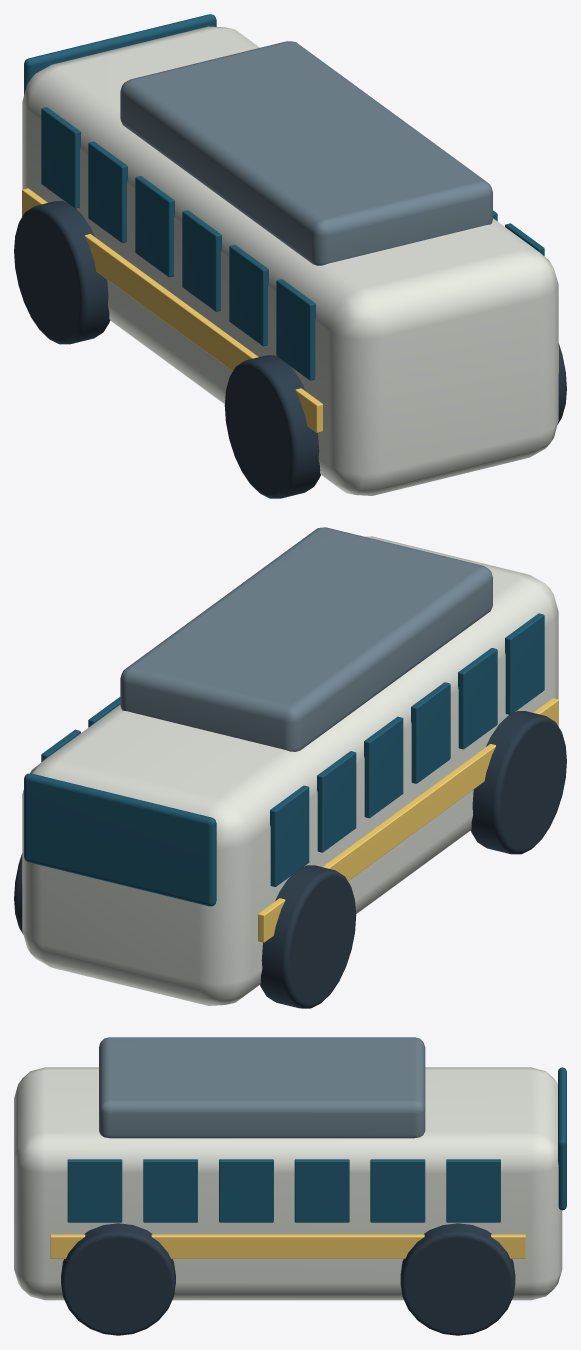
File: EvacBus.fbx
3 renders of one model, top to bottom at view 1: azimuth 30°, elevation 25°; view 2: azimuth 150°, elevation 25°; view 3: azimuth 270°, elevation 25°, orthographic. The views are drawn at different scales.
Parts seen in each view (by area): view 1: Electric evacuation bus, Roof battery, Bus wheel.001, Bus wheel, Rescue lane stripe, Passenger glazing, Passenger glazing.001, Passenger glazing.003, Passenger glazing.005, Passenger glazing.002, Passenger glazing.004, Front glass; view 2: Electric evacuation bus, Roof battery, Front glass, Bus wheel, Bus wheel.001, Rescue lane stripe, Passenger glazing.002, Passenger glazing.003, Passenger glazing.005, Passenger glazing, Passenger glazing.001, Passenger glazing.004; view 3: Electric evacuation bus, Roof battery, Bus wheel.003, Bus wheel.002, Rescue lane stripe.001, Passenger glazing.009, Passenger glazing.006, Passenger glazing.010, Passenger glazing.008, Passenger glazing.011, Passenger glazing.007, Front glass.
Boxes of the visible parts, box(x1,y1,x2,y2) form: Electric evacuation bus: box(22, 26, 558, 495); Roof battery: box(120, 41, 492, 265); Bus wheel.001: box(14, 201, 110, 344); Bus wheel: box(224, 355, 320, 498); Rescue lane stripe: box(22, 188, 322, 432); Passenger glazing: box(276, 279, 315, 380); Passenger glazing.001: box(229, 244, 268, 346); Passenger glazing.003: box(135, 176, 174, 277); Passenger glazing.005: box(41, 107, 80, 208); Passenger glazing.002: box(182, 210, 221, 311); Passenger glazing.004: box(88, 141, 127, 242); Front glass: box(24, 14, 216, 94); Electric evacuation bus: box(22, 536, 558, 1005); Roof battery: box(120, 527, 492, 751); Front glass: box(24, 773, 216, 906); Bus wheel: box(470, 711, 566, 854); Bus wheel.001: box(260, 865, 356, 1008); Rescue lane stripe: box(258, 698, 558, 942); Passenger glazing.002: box(411, 682, 450, 783); Passenger glazing.003: box(364, 716, 403, 818); Passenger glazing.005: box(270, 785, 309, 886); Passenger glazing: box(505, 613, 544, 714); Passenger glazing.001: box(458, 648, 497, 749); Passenger glazing.004: box(317, 751, 356, 852); Electric evacuation bus: box(14, 1067, 562, 1300); Roof battery: box(99, 1037, 425, 1138); Bus wheel.003: box(400, 1223, 515, 1335); Bus wheel.002: box(61, 1223, 175, 1335); Rescue lane stripe.001: box(50, 1234, 525, 1258); Passenger glazing.009: box(294, 1159, 349, 1222); Passenger glazing.006: box(67, 1159, 122, 1222); Passenger glazing.010: box(370, 1159, 425, 1222); Passenger glazing.008: box(219, 1159, 273, 1222); Passenger glazing.011: box(446, 1159, 500, 1222); Passenger glazing.007: box(143, 1159, 197, 1222); Front glass: box(558, 1067, 566, 1210).
Size of the model in its own units: 98 by 90.5 by 212.
